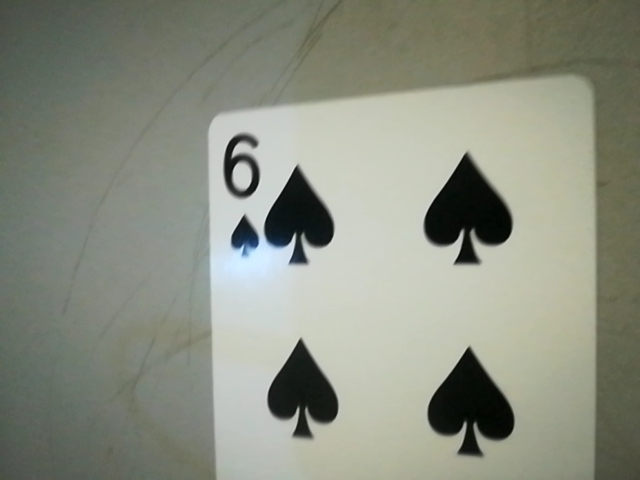ht 6: (208, 123, 269, 260)
